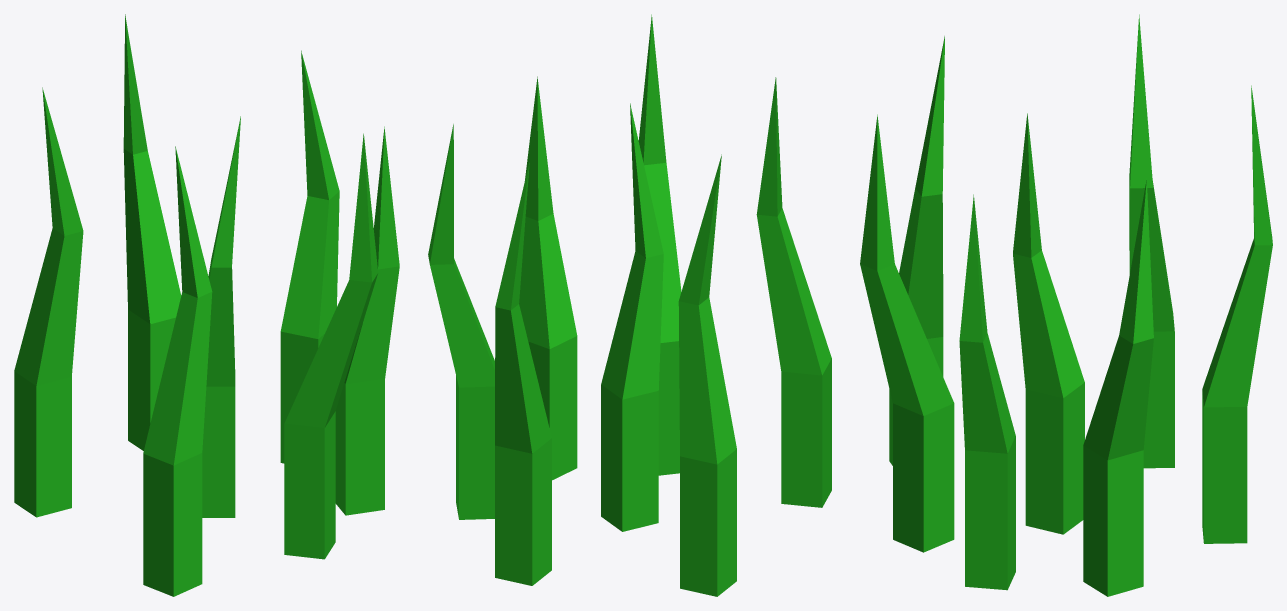
The model's file is grass.fbx.
3 views of the same model, side by side, from view 1: azimuth 30°, elevation 25°; view 2: azimuth 150°, elevation 25°; view 3: azimuth 270°, elevation 25° (orthographic). The views are drawn at different scales.
Parts seen in each view (by area): view 1: grass; view 2: grass; view 3: grass.
Part boxes in pixels (box(x1,y1,x2,y2)): grass: box(14, 14, 399, 596); grass: box(428, 14, 831, 596); grass: box(860, 14, 1272, 596).
Bounding box in the file's own units: 51.85 × 68.9 × 58.27.
1 material, 1 textured.
